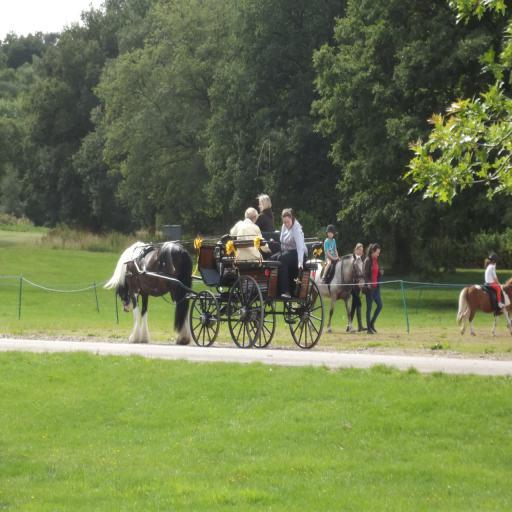Horse: (104, 242, 193, 346), (296, 254, 367, 334), (456, 279, 512, 339)
